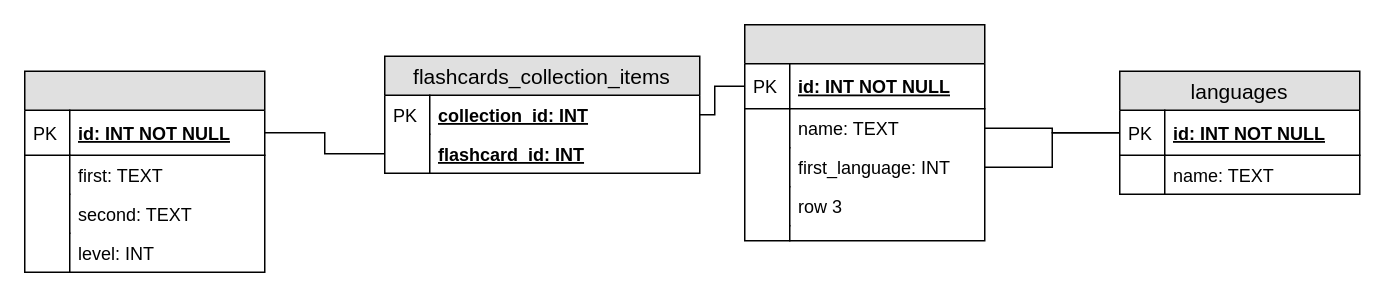
Image size: 1385x297. Some labels were removed from this diagram. The box of each missing label's shape, as (x1, y1, x2, y2) in pixels:
flashcard_collections: (743, 23, 985, 241)
flashcards: (23, 70, 265, 272)
